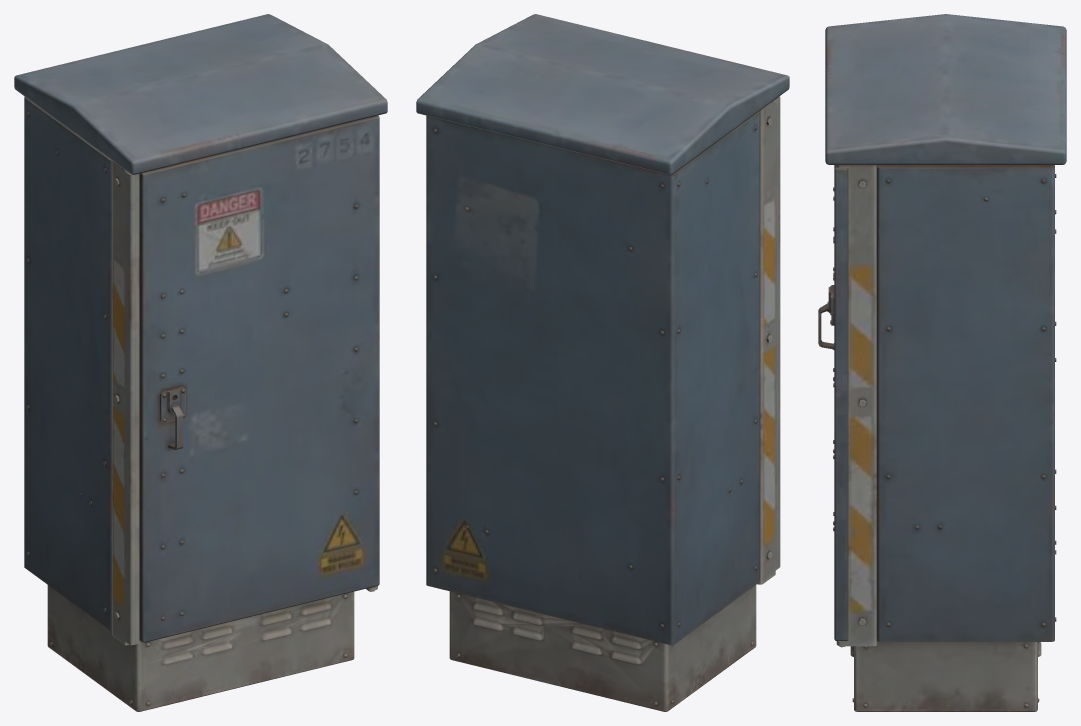
File: utility_box.glb
The picture shows the model from 3 angles, left to right: view 1: azimuth 30°, elevation 25°; view 2: azimuth 150°, elevation 25°; view 3: azimuth 270°, elevation 25°; orthographic projection.
Visible parts, largest first — view 1: utility_box_01_box; view 2: utility_box_01_box; view 3: utility_box_01_box.
Boxes of the visible parts, left/top/right/bottom form: utility_box_01_box: left=14, top=14, right=387, bottom=711; utility_box_01_box: left=416, top=14, right=789, bottom=711; utility_box_01_box: left=818, top=14, right=1066, bottom=711.
Size of the model in its own units: 0.52 by 1.12 by 0.4319.
1 material, 1 textured.
